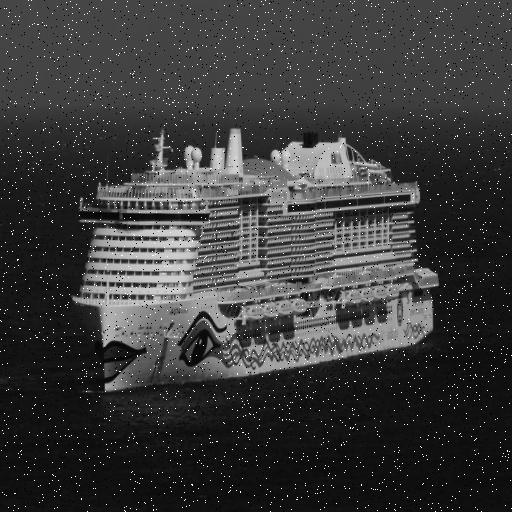cruises: (70, 119, 443, 402)
